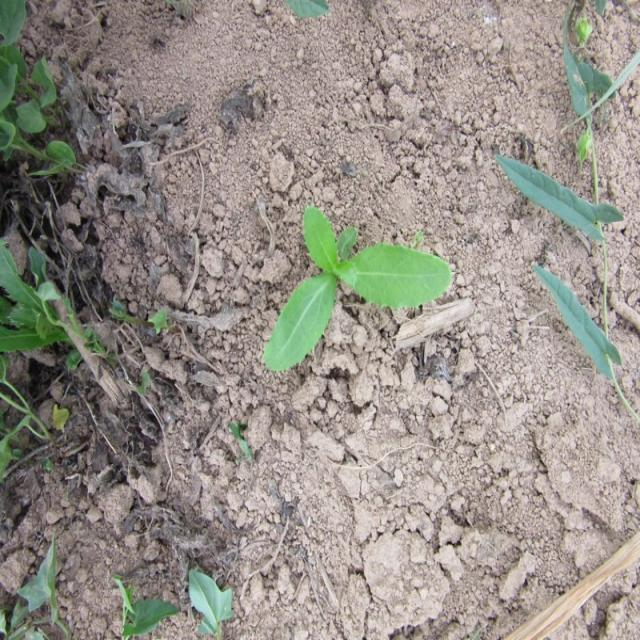field_thistle: (194, 172, 448, 375)
